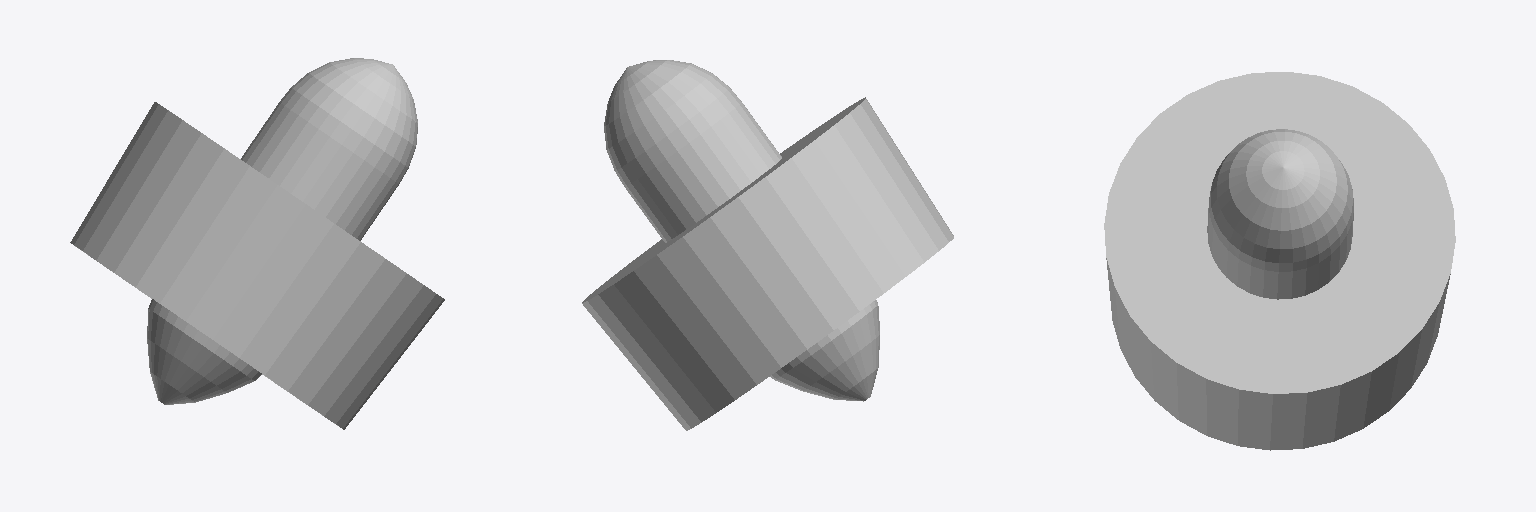
File: duct_bottom_retro_right_phy.obj
3 views of the same model, side by side, from view 1: azimuth 30°, elevation 25°; view 2: azimuth 150°, elevation 25°; view 3: azimuth 270°, elevation 25° (orthographic).
Visible parts, largest first — view 1: duct_bottom_retro_right_phy; view 2: duct_bottom_retro_right_phy; view 3: duct_bottom_retro_right_phy.
Boxes of the visible parts, <box> form: duct_bottom_retro_right_phy: <box>70,58,444,429</box>; duct_bottom_retro_right_phy: <box>582,60,953,430</box>; duct_bottom_retro_right_phy: <box>1104,72,1455,450</box>.
Bounding box in the file's own units: 0.0991 × 0.0999 × 0.0955.